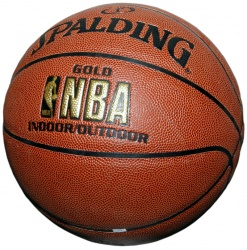basketball: (3, 3, 243, 245)
